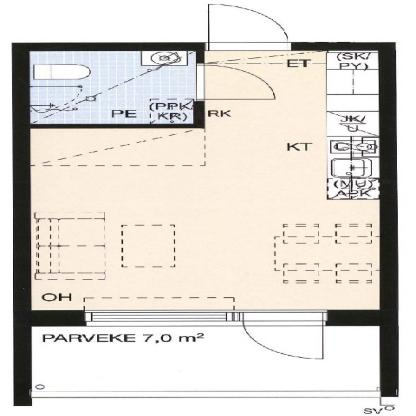door: (236, 311, 333, 364), (202, 2, 297, 51), (193, 64, 276, 102)
window: (84, 308, 239, 326)
zone: (30, 48, 376, 308), (33, 324, 380, 391), (27, 50, 194, 122)
